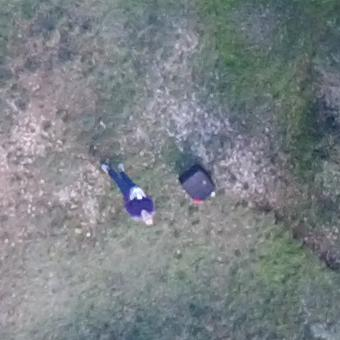human: (95, 160, 159, 227)
